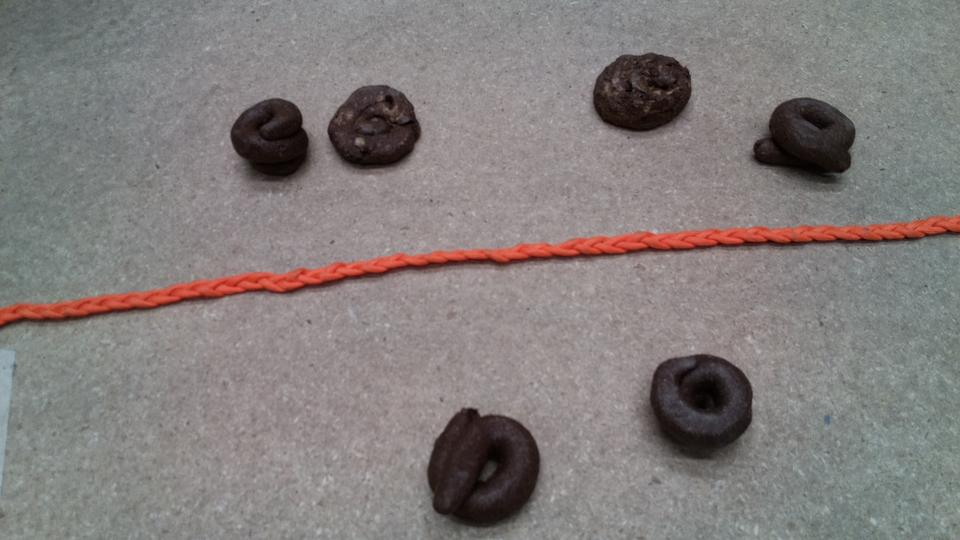poop: (426, 401, 544, 527), (646, 347, 767, 462), (589, 47, 705, 137), (754, 94, 867, 183), (321, 80, 422, 175), (228, 93, 319, 186)
rope: (533, 220, 960, 264), (311, 242, 547, 291), (5, 287, 200, 334), (164, 266, 341, 308)
